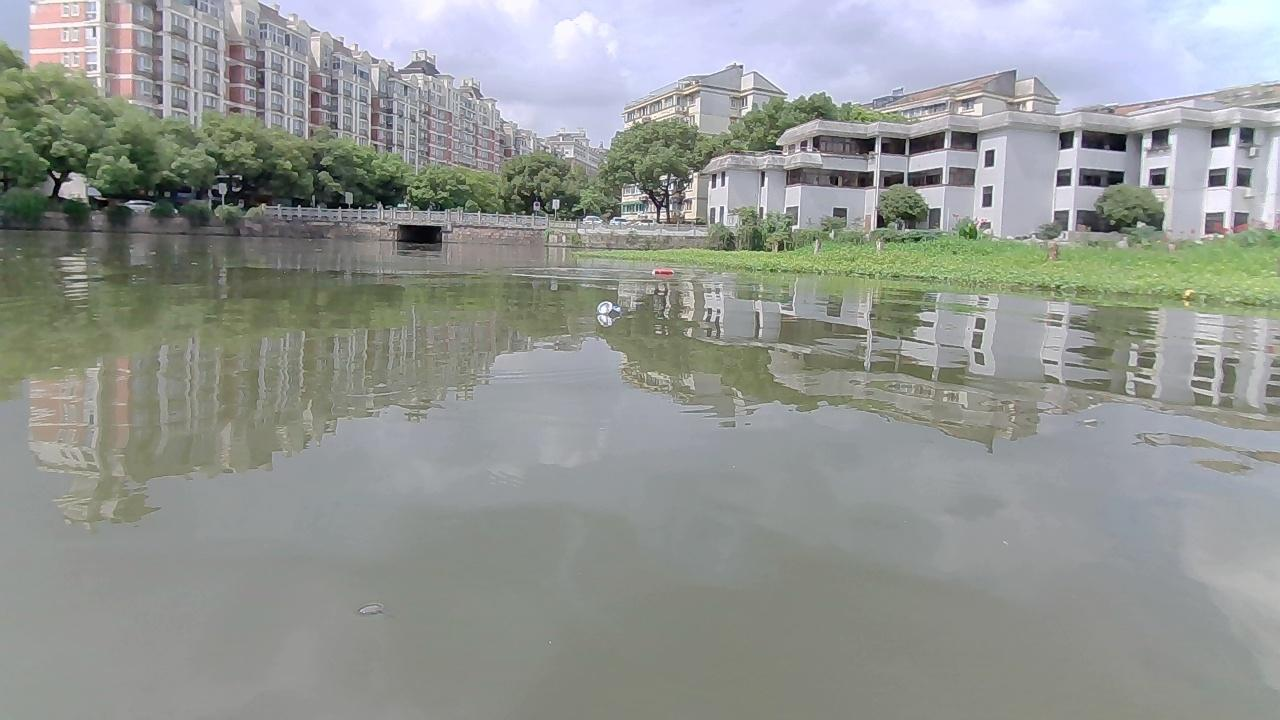bottle: (595, 300, 621, 314), (650, 268, 673, 273)
